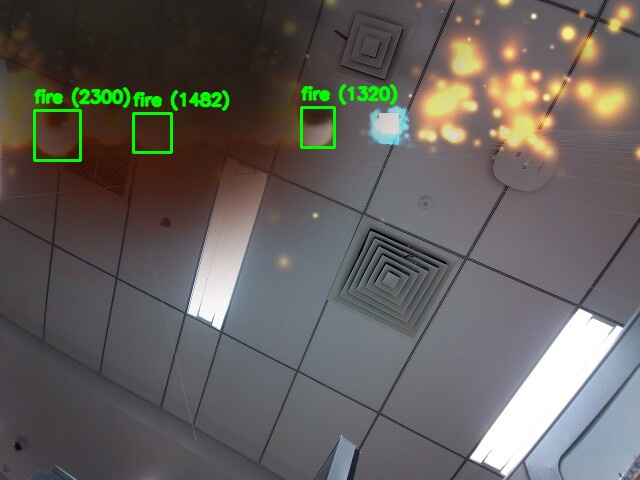fire: (34, 110, 80, 160), (133, 113, 171, 152), (301, 107, 334, 147)
